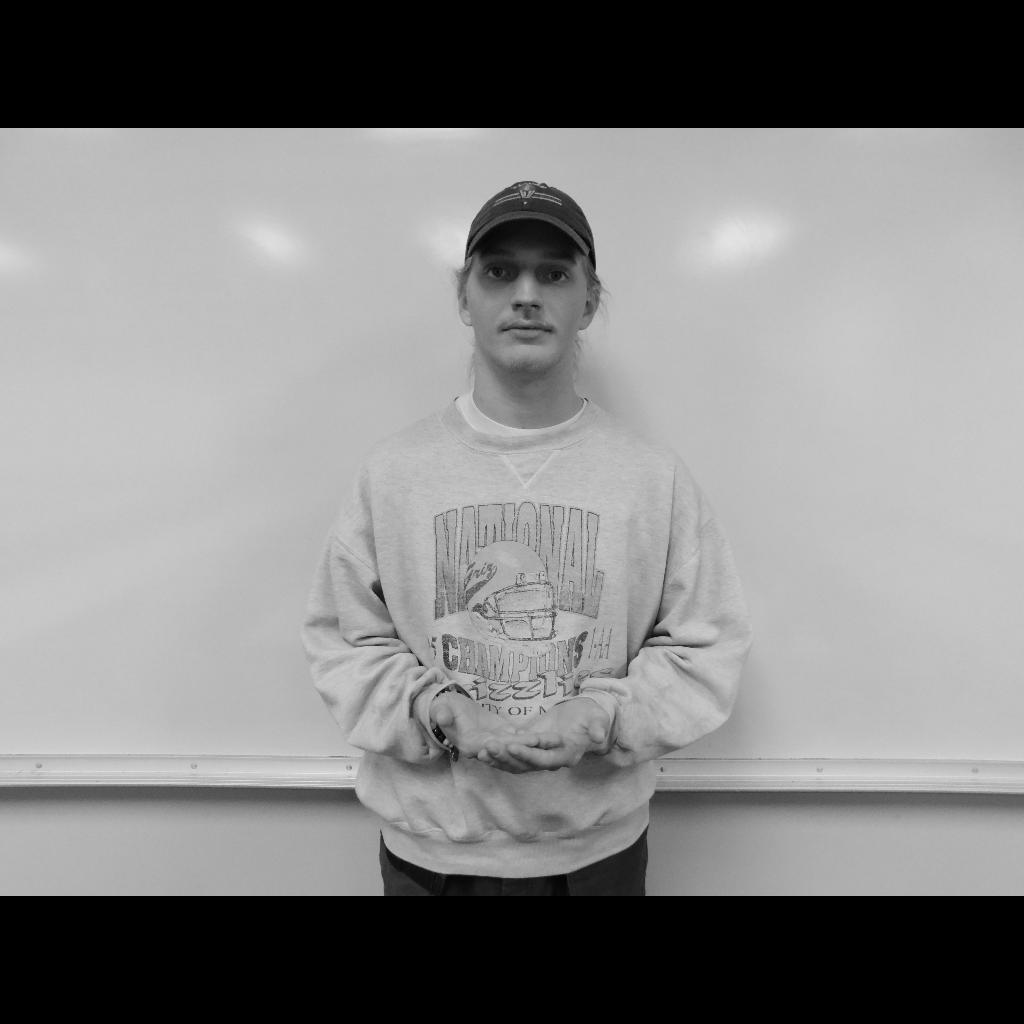good: (430, 692, 610, 774)
